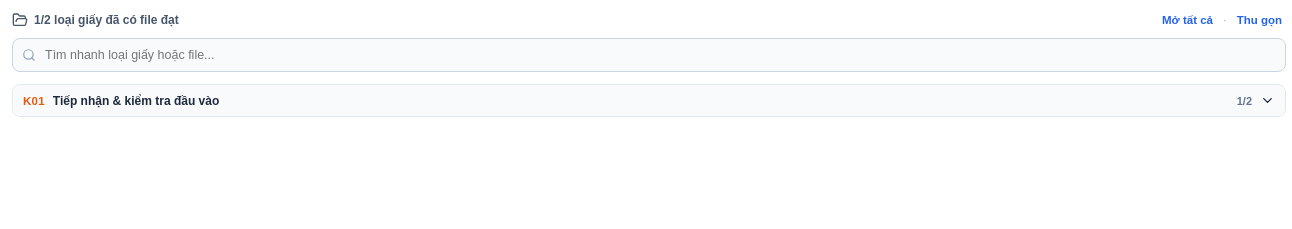
Test case: ChecklistCabinetTree › loại giấy 0 file vẫn hiện gọn và không tạo khoảng rỗng
Click the button "K01 Tiếp nhận & kiểm tra đầu vào 1/2": click(136, 100) [13, 85, 1285, 116]
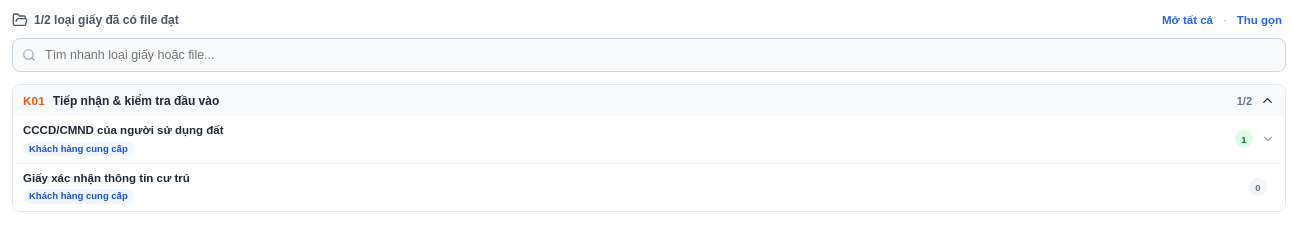
expect the text "0" is shown: met, box [1249, 178, 1267, 196]
